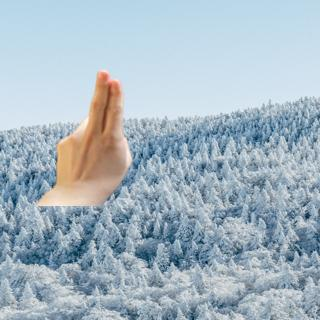DHAVE: (52, 64, 135, 195)
